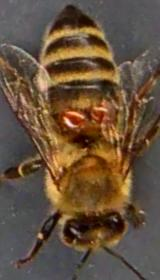varroa_mite: (62, 106, 88, 135), (84, 104, 108, 122)
